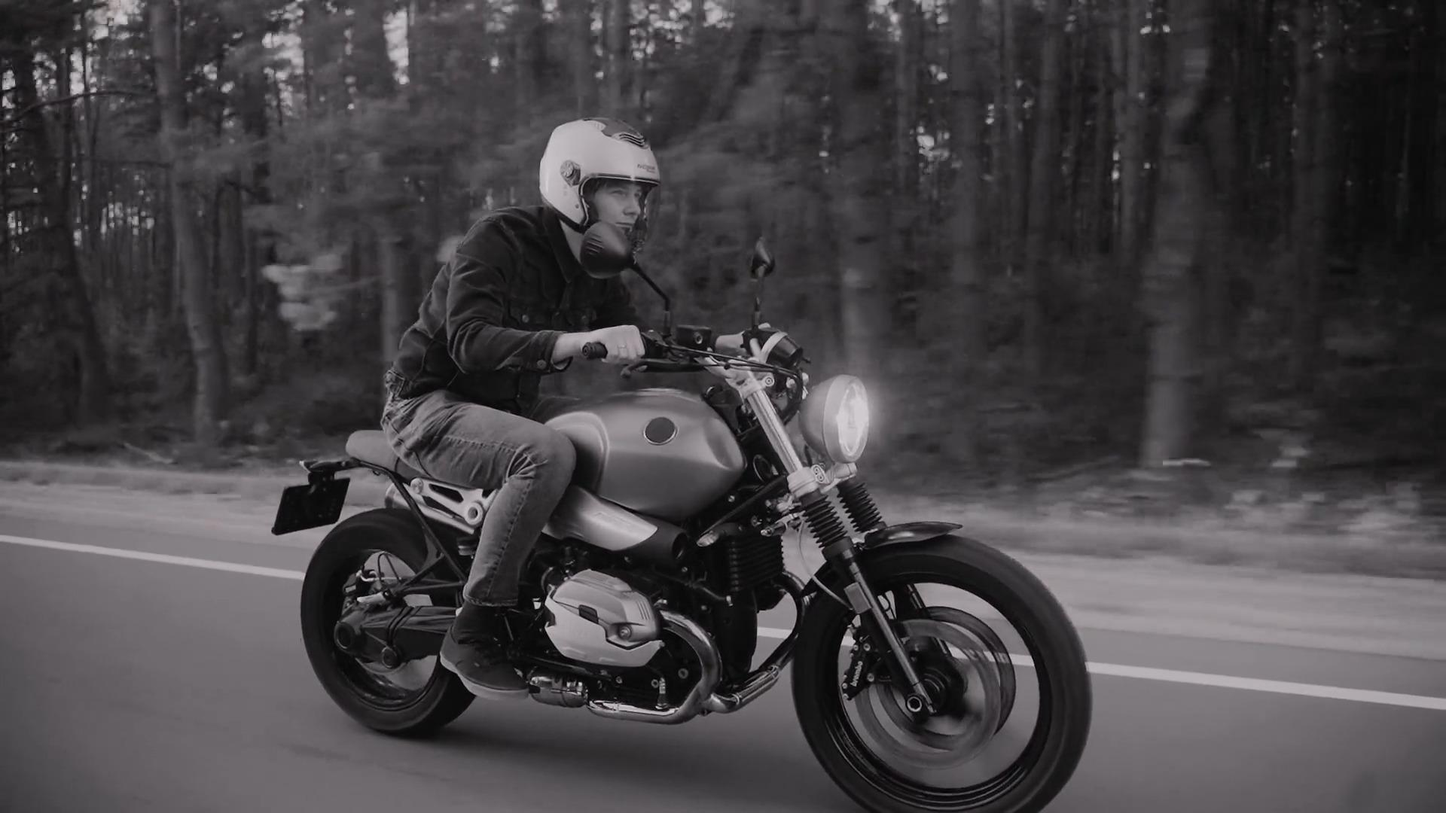driver: (269, 115, 1095, 813)
helmet: (539, 114, 662, 257)
